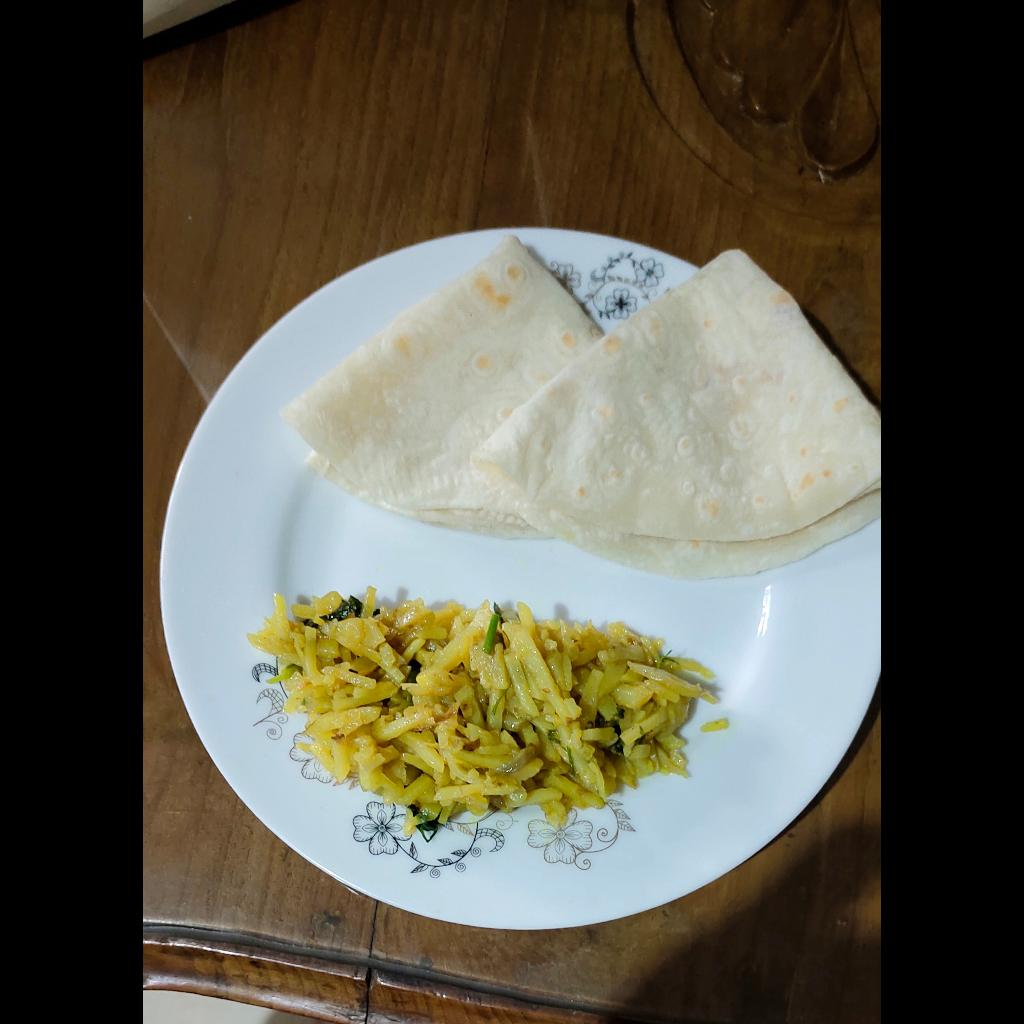ruti: (275, 231, 882, 584)
vaji: (249, 571, 724, 837)
